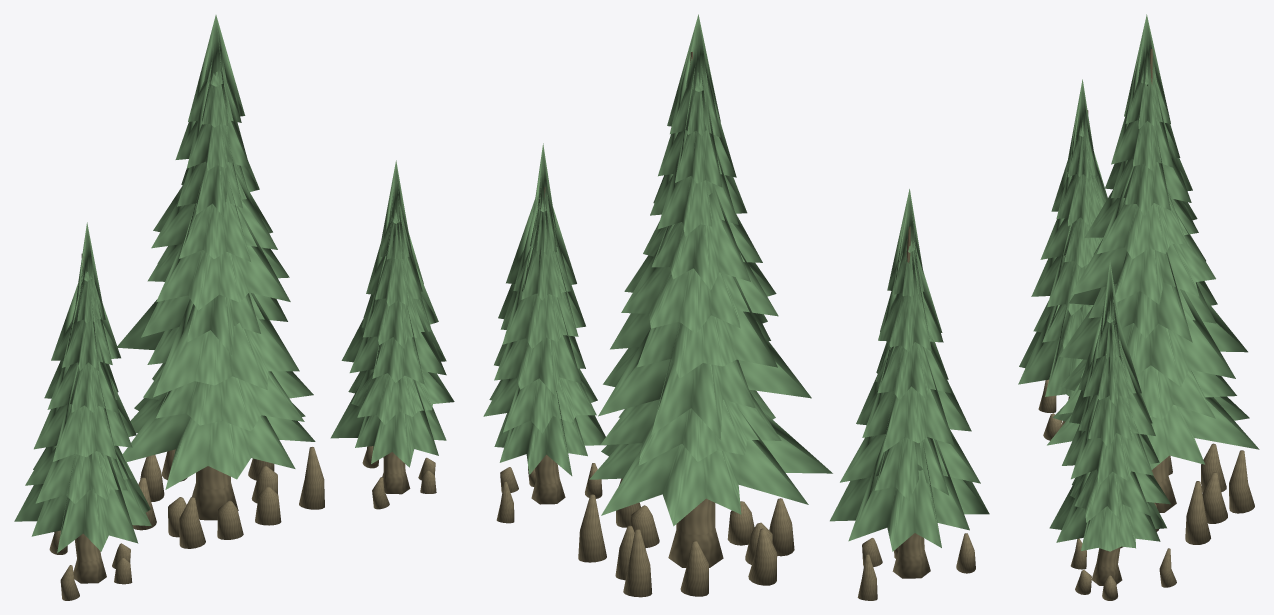
The model's file is cypress_dome_clump_swamp_and_mangrove_22659.glb.
3 views of the same model, side by side, from view 1: azimuth 30°, elevation 25°; view 2: azimuth 150°, elevation 25°; view 3: azimuth 270°, elevation 25° (orthographic). The views are drawn at different scales.
Parts seen in each view (by area): view 1: cypress-dome-clump; view 2: cypress-dome-clump; view 3: cypress-dome-clump.
Part boxes in pixels (x1=…): cypress-dome-clump: x1=14, y1=15, x2=454, y2=600; cypress-dome-clump: x1=483, y1=14, x2=989, y2=600; cypress-dome-clump: x1=1018, y1=14, x2=1259, y2=600.
Size of the model in its own units: 5.3 by 5.92 by 2.64.
Materials: 2 (2 with a texture image).
